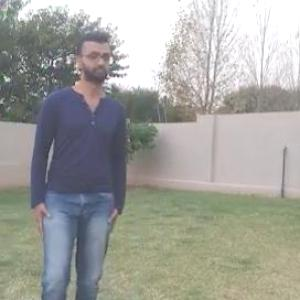follow: (24, 26, 130, 299)
